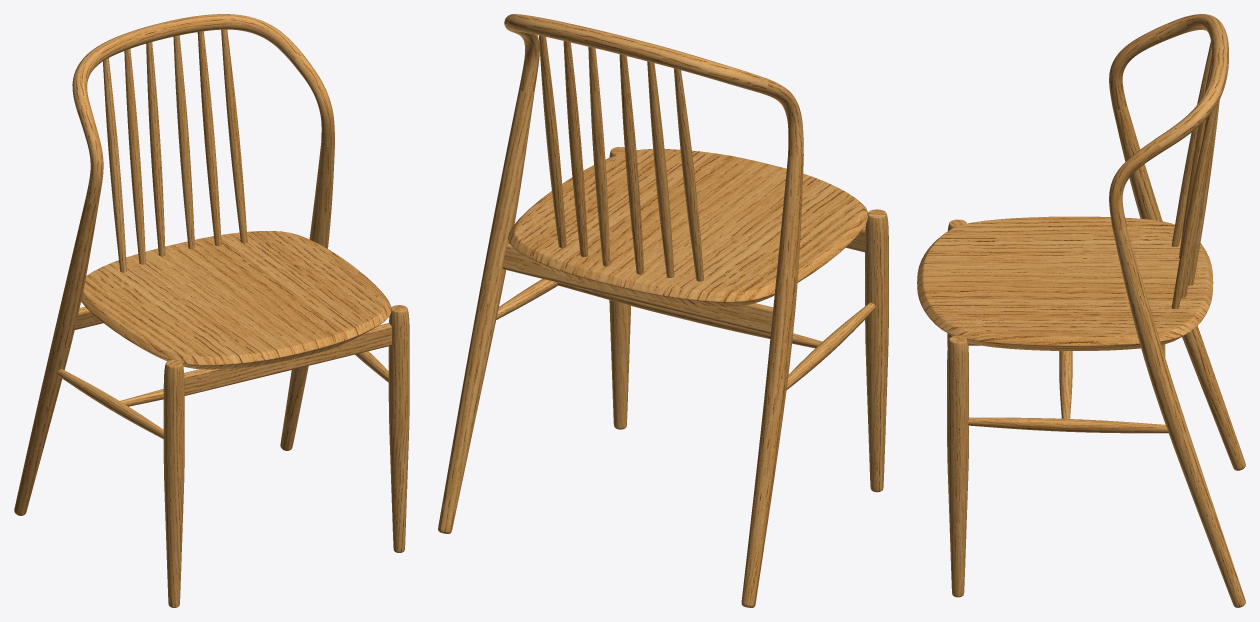
The picture shows the model from 3 angles, left to right: view 1: azimuth 30°, elevation 25°; view 2: azimuth 150°, elevation 25°; view 3: azimuth 270°, elevation 25°; orthographic projection. The views are drawn at different scales.
Parts seen in each view (by area): view 1: Mesh (7)_wood_0, Mesh (2)_wood_0, Mesh (8)_wood_0, Mesh (3)_wood_0, Mesh (6)_wood_0, Mesh (4)_wood_0; view 2: Mesh (7)_wood_0, Mesh (2)_wood_0, Mesh (8)_wood_0, Mesh (3)_wood_0, Mesh (6)_wood_0, Mesh (4)_wood_0, Mesh (5)_wood_0; view 3: Mesh (7)_wood_0, Mesh (2)_wood_0, Mesh (3)_wood_0, Mesh (8)_wood_0, Mesh (4)_wood_0, Mesh (5)_wood_0.
Part boxes in pixels (x1,y1,x2,y2): Mesh (7)_wood_0: (81,231,391,369); Mesh (2)_wood_0: (14,14,334,515); Mesh (8)_wood_0: (103,29,247,272); Mesh (3)_wood_0: (163,305,409,607); Mesh (6)_wood_0: (75,306,391,395); Mesh (4)_wood_0: (56,351,388,438); Mesh (7)_wood_0: (508,149,868,307); Mesh (2)_wood_0: (438,14,803,607); Mesh (8)_wood_0: (539,35,703,281); Mesh (3)_wood_0: (609,147,888,492); Mesh (6)_wood_0: (502,226,865,334); Mesh (4)_wood_0: (496,279,875,390); Mesh (5)_wood_0: (557,282,822,348); Mesh (7)_wood_0: (917,216,1213,350); Mesh (2)_wood_0: (1109,14,1245,607); Mesh (3)_wood_0: (947,219,968,597); Mesh (8)_wood_0: (1171,41,1219,309); Mesh (4)_wood_0: (968,417,1168,433); Mesh (5)_wood_0: (1059,351,1072,418).
Bounding box in the file's own units: 51.68 × 82.92 × 50.3.
Materials: 1 (1 with a texture image).
